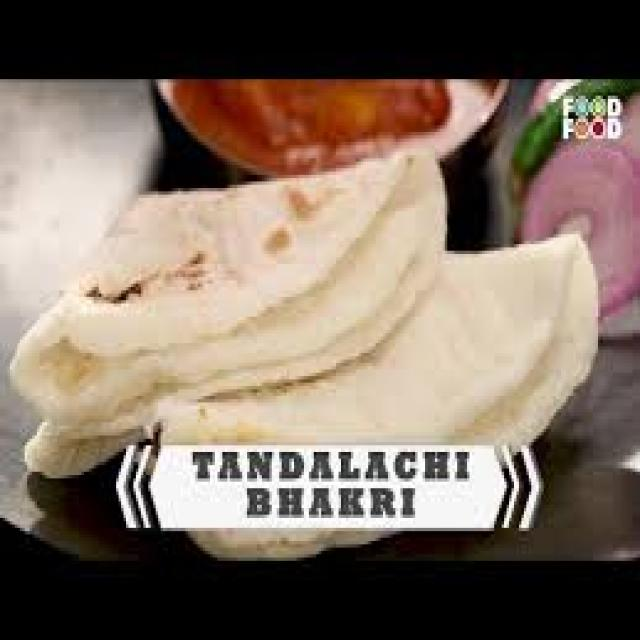RICE BHAKRI: (10, 148, 596, 475)
